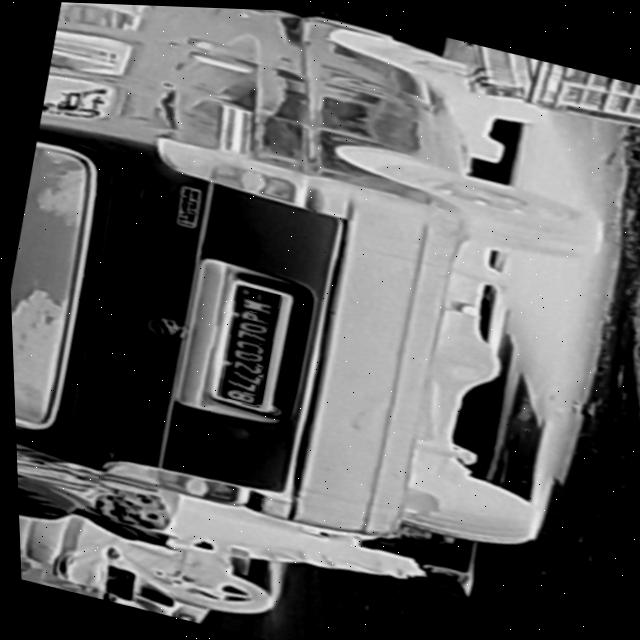0: (234, 315, 265, 333)
2: (229, 356, 260, 372)
7: (225, 364, 260, 383), (222, 376, 255, 393), (232, 326, 265, 341)
8: (221, 386, 254, 402)
C: (231, 334, 264, 353)
D: (229, 345, 262, 362)
IND: (238, 283, 263, 299)
Indian_registered: (216, 282, 278, 403)
M: (239, 294, 271, 313)
P: (237, 306, 269, 322)
